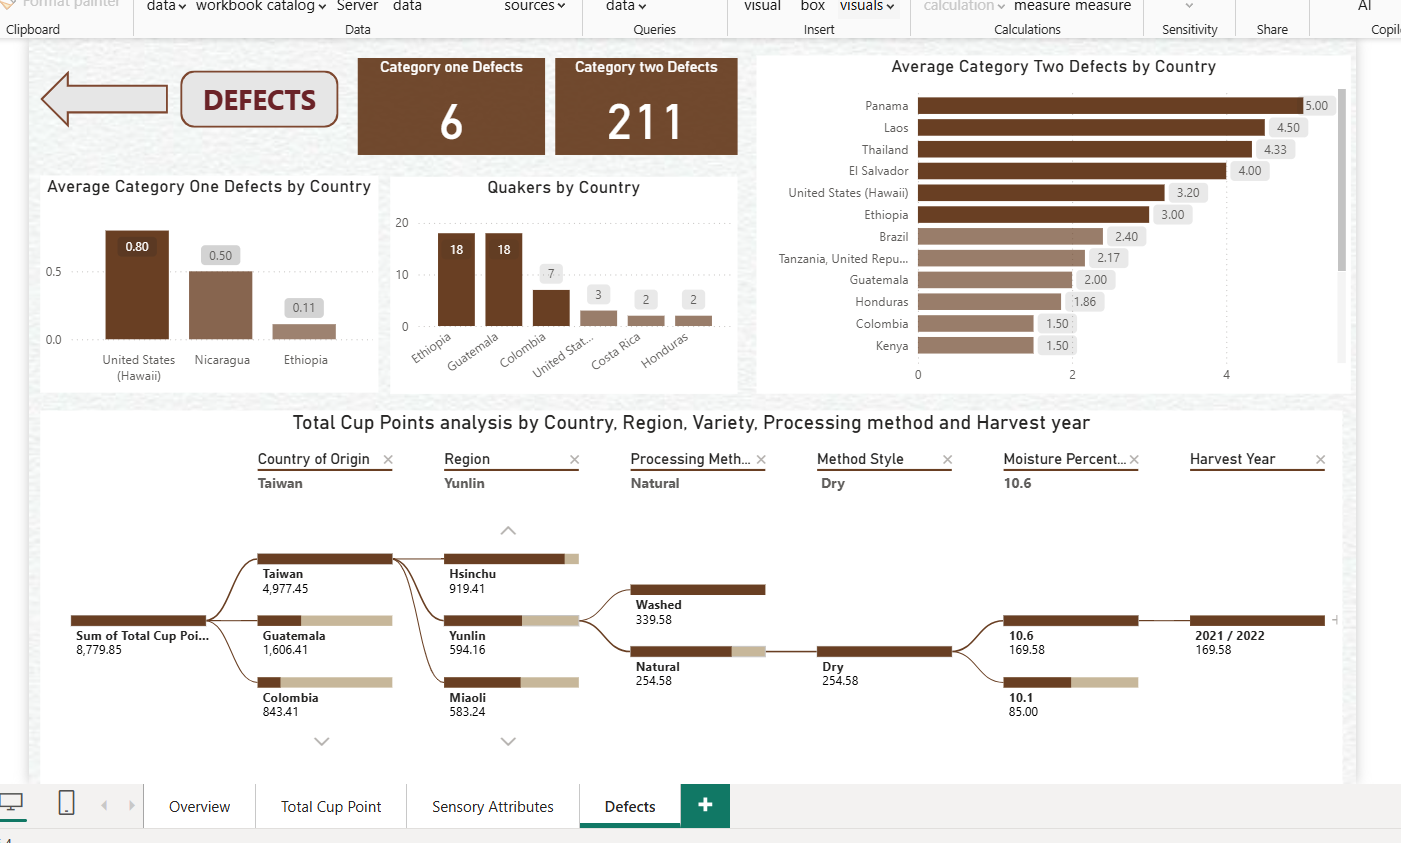

Layout of this report page (visuals, bound fields, positions):
{"tool":"powerbi","page":{"name":"Defects","canvas":[1280,720],"ordinal":3},"visuals":[{"type":"columnChart","title":"Average Category One Defects by Country","fields":{"Category":["df_arabica_clean.Country of Origin"],"Y":["Avg(df_arabica_clean.Category One Defects)"]},"box":[10.3,132.2,326.1,209.3],"z":0},{"type":"barChart","title":"Average Category Two Defects by Country","fields":{"Category":["df_arabica_clean.Country of Origin"],"Y":["Avg(df_arabica_clean.Category Two Defects)"]},"box":[702.3,16.7,573.9,326.1],"z":1000},{"type":"columnChart","title":"Quakers by Country","fields":{"Category":["df_arabica_clean.Country of Origin"],"Y":["Sum(df_arabica_clean.Quakers)"]},"box":[349.2,133.5,335.1,209.3],"z":2000},{"type":"shape","box":[146.4,30.8,152.8,55.2],"z":3000},{"type":"shape","box":[10.3,30.8,123.2,55.2],"z":4000},{"type":"decompositionTreeVisual","title":"Total Cup Points analysis by Country, Region, Variety,  Processing method and Harvest year","fields":{"Analyze":["Sum(df_arabica_clean.Total Cup Points)"],"ExplainBy":["df_arabica_clean.Country of Origin","df_arabica_clean.Region","df_arabica_clean.Processing Method","df_arabica_clean.Method Style","df_arabica_clean.Moisture Percentage","df_arabica_clean.Harvest Year","df_arabica_clean.Variety"]},"box":[10.3,359.5,1256.9,360.8],"z":5000},{"type":"card","title":"Category one Defects","fields":{"Values":["Sum(df_arabica_clean.Category One Defects)"]},"box":[317.1,19.3,181,93.7],"z":6000},{"type":"card","title":"Category two Defects","fields":{"Values":["Sum(df_arabica_clean.Category Two Defects)"]},"box":[508.4,19.3,175.9,93.7],"z":7000}]}

Visuals, with their boxes on the page's 1280x720 design canvas (x1, y1, x2, y2). These are canvas units, not pixel positions in the 1401x843 screenshot, which may show the page scaled, cropped or inside an application window:
"Average Category One Defects by Country" columnChart: select_region(10, 132, 336, 342)
"Average Category Two Defects by Country" barChart: select_region(702, 17, 1276, 343)
"Quakers by Country" columnChart: select_region(349, 134, 684, 343)
shape: select_region(146, 31, 299, 86)
shape: select_region(10, 31, 134, 86)
"Total Cup Points analysis by Country, Region, Variety,  Processing method and Harvest year" decompositionTreeVisual: select_region(10, 360, 1267, 720)
"Category one Defects" card: select_region(317, 19, 498, 113)
"Category two Defects" card: select_region(508, 19, 684, 113)
